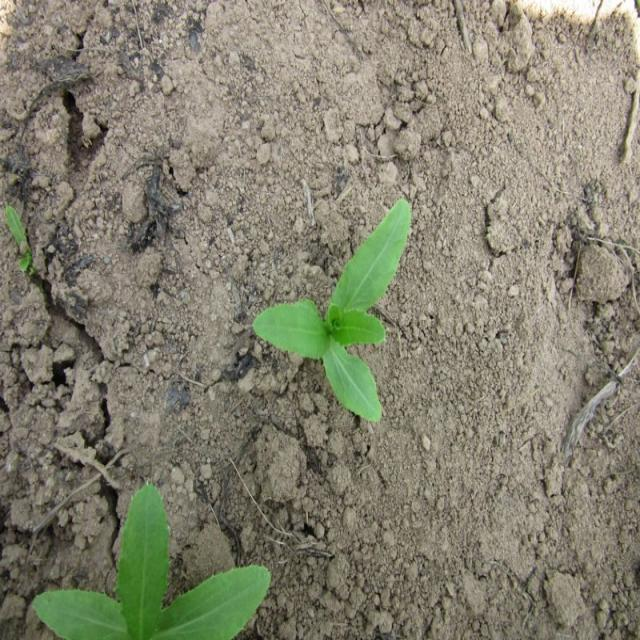cs: (250, 196, 416, 428)
